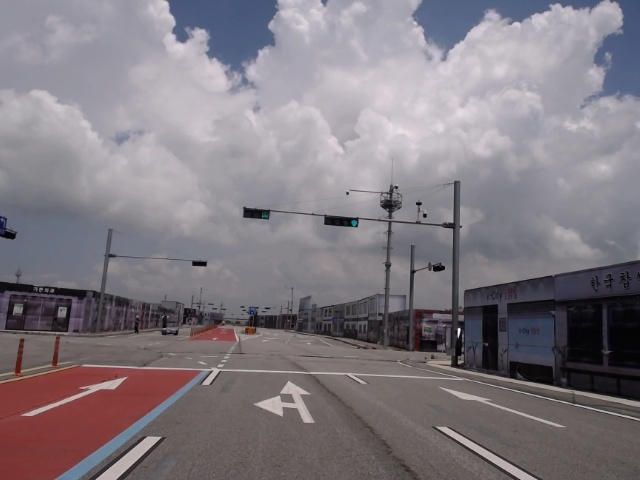straight_green_4: (324, 215, 358, 227)
